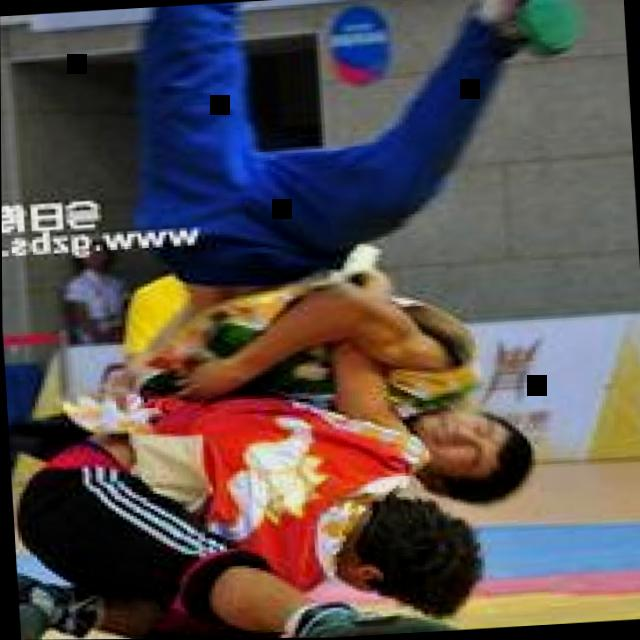Fall-Detected: (103, 0, 625, 533)
